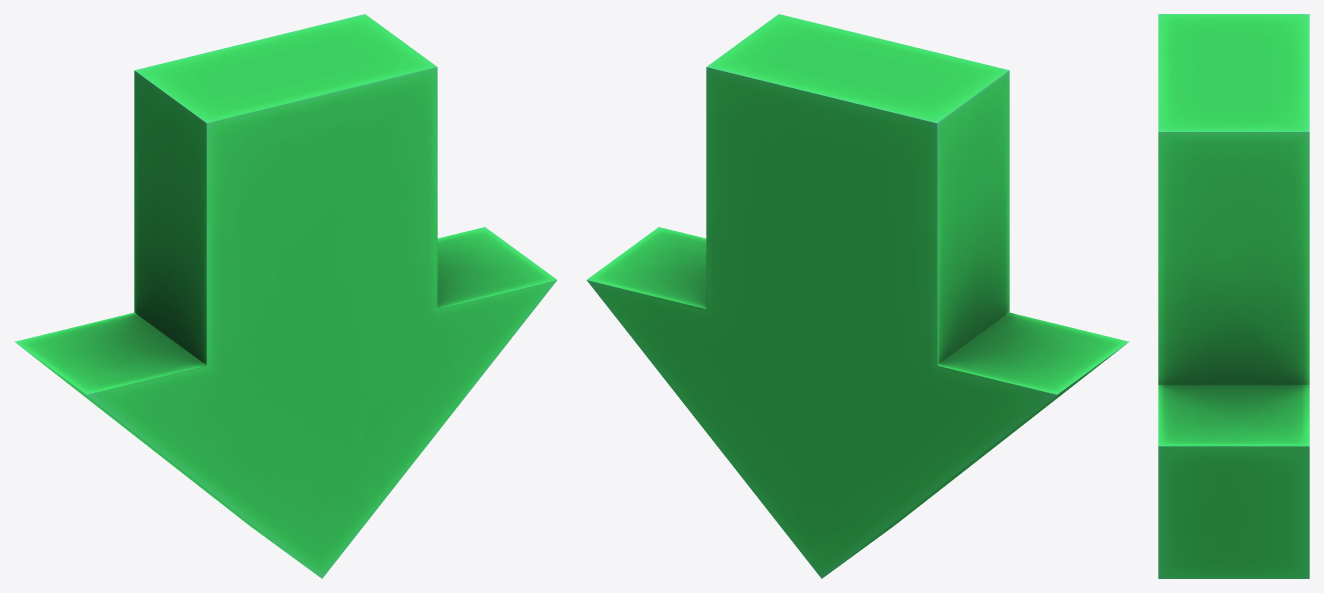
File: arrow_001.fbx
3 views of the same model, side by side, from view 1: azimuth 30°, elevation 25°; view 2: azimuth 150°, elevation 25°; view 3: azimuth 270°, elevation 25° (orthographic). The views are drawn at different scales.
Visible parts, largest first — view 1: Cube; view 2: Cube; view 3: Cube.
Boxes of the visible parts, bbox=[...] form: Cube: bbox=[14, 14, 557, 578]; Cube: bbox=[586, 14, 1129, 578]; Cube: bbox=[1158, 14, 1309, 578].
Size of the model in its own units: 408 by 109 by 401.
1 material, 1 textured.
